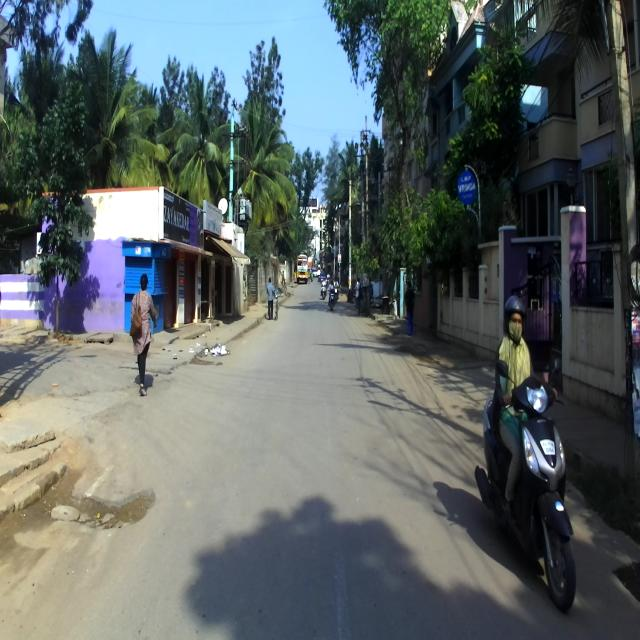motorcycle ahead at: (481, 376, 581, 607)
person ahead at: (127, 272, 160, 396)
